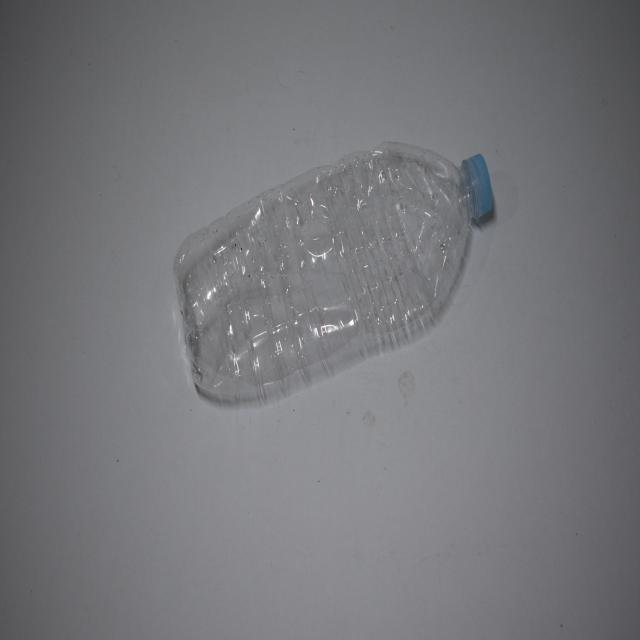empty: (174, 143, 492, 403)
